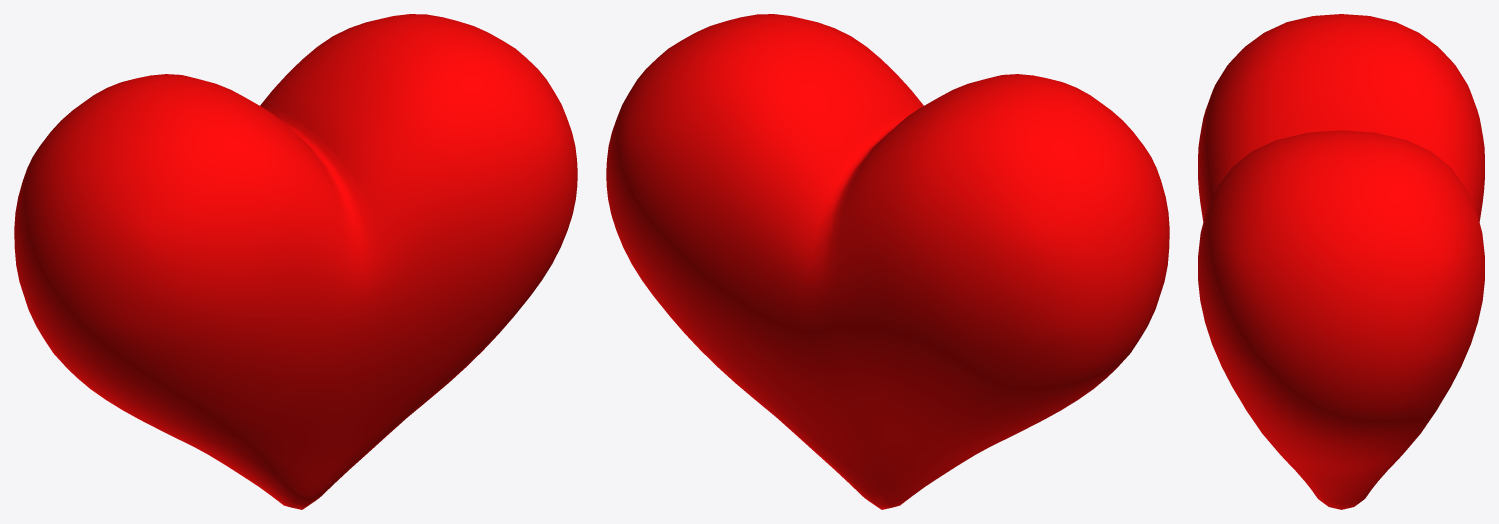
The model's file is heart.gltf.
The picture shows the model from 3 angles, left to right: view 1: azimuth 30°, elevation 25°; view 2: azimuth 150°, elevation 25°; view 3: azimuth 270°, elevation 25°; orthographic projection. The views are drawn at different scales.
Visible parts, largest first — view 1: Cube; view 2: Cube; view 3: Cube.
Part boxes in pixels (x1,y1,x2,y2): Cube: (14,14,577,509); Cube: (606,14,1169,509); Cube: (1198,14,1484,509).
Size of the model in its own units: 2.85 by 2.33 by 1.43.
